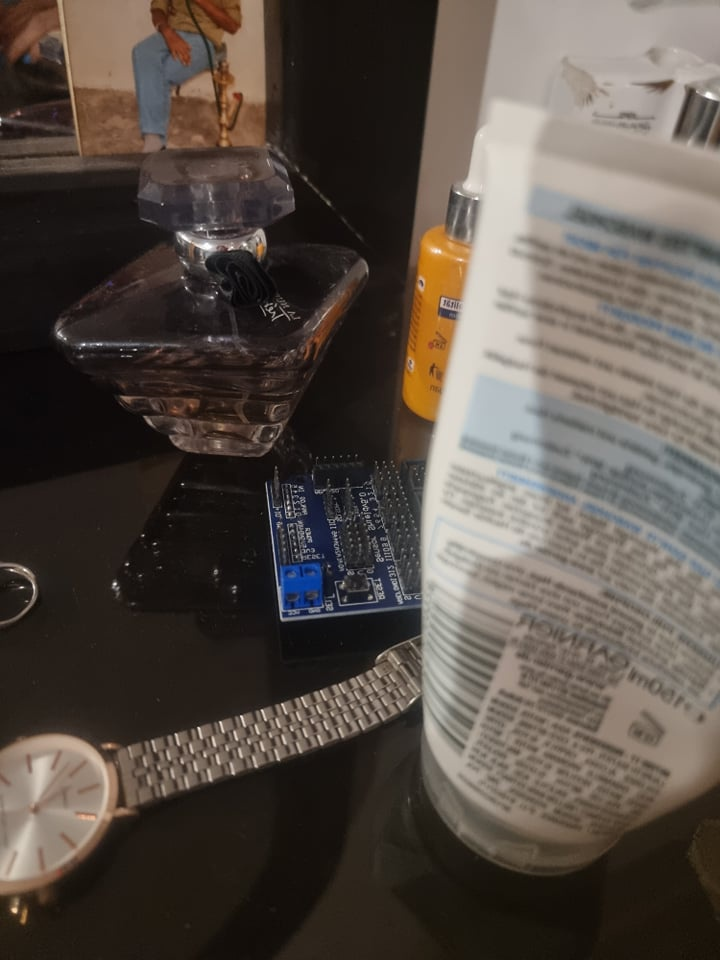5V EXPANSION: (262, 450, 430, 627)
